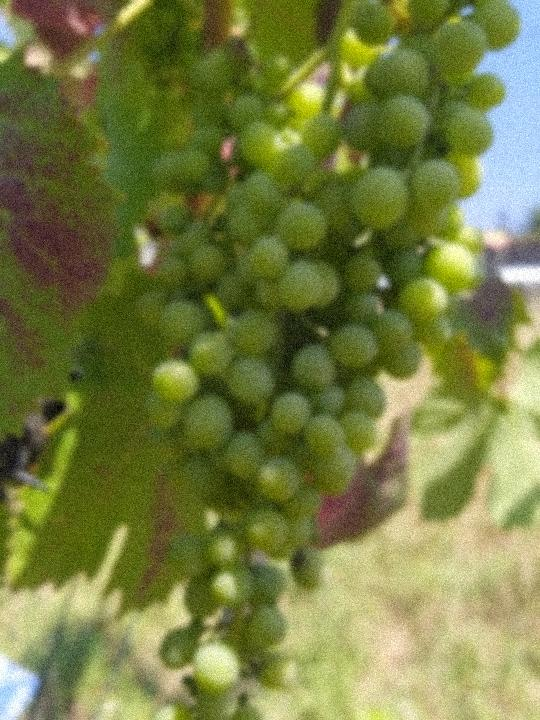grape: (137, 0, 521, 720)
